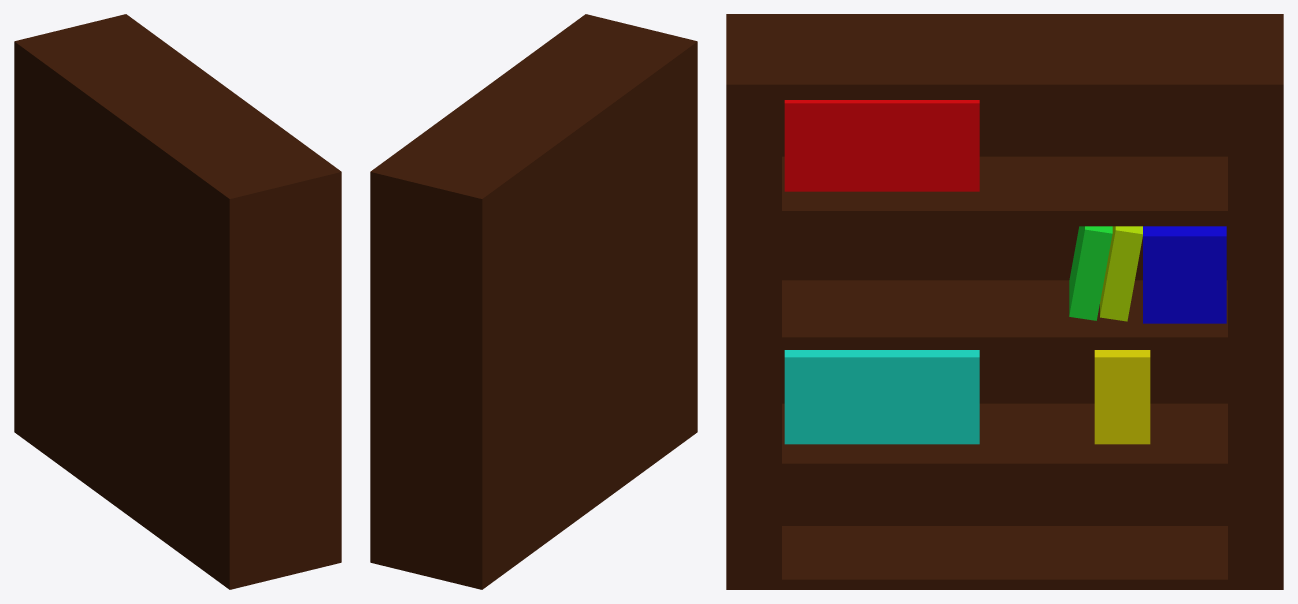
The model's file is bookcase.fbx.
3 renders of one model, left to right at view 1: azimuth 30°, elevation 25°; view 2: azimuth 150°, elevation 25°; view 3: azimuth 270°, elevation 25°, orthographic. The views are drawn at different scales.
Visible parts, largest first — view 1: BookCase; view 2: BookCase; view 3: BookCase, Books.004, Books, Books.001, Books.005, Books.003, Books.002.
Part boxes in pixels (x1,y1,x2,y2): BookCase: (14, 14, 341, 589); BookCase: (370, 14, 697, 589); BookCase: (726, 14, 1283, 589); Books.004: (784, 350, 979, 444); Books: (784, 100, 979, 191); Books.001: (1143, 226, 1226, 323); Books.005: (1094, 350, 1150, 444); Books.003: (1069, 226, 1112, 320); Books.002: (1100, 226, 1142, 321).
Size of the model in its own units: 60 by 200 by 200.
